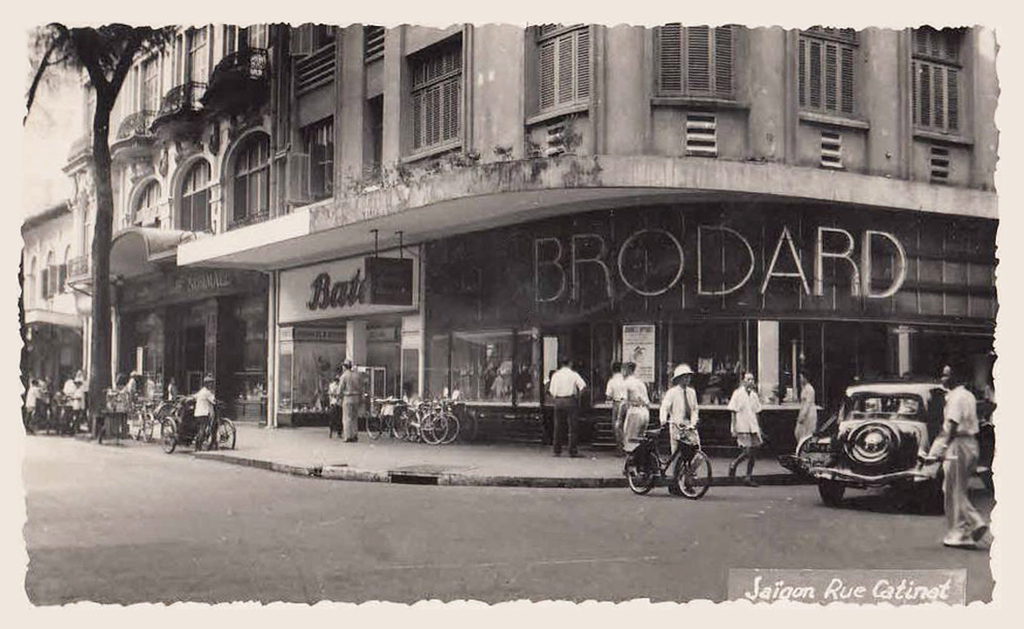Car: (808, 382, 996, 514)
